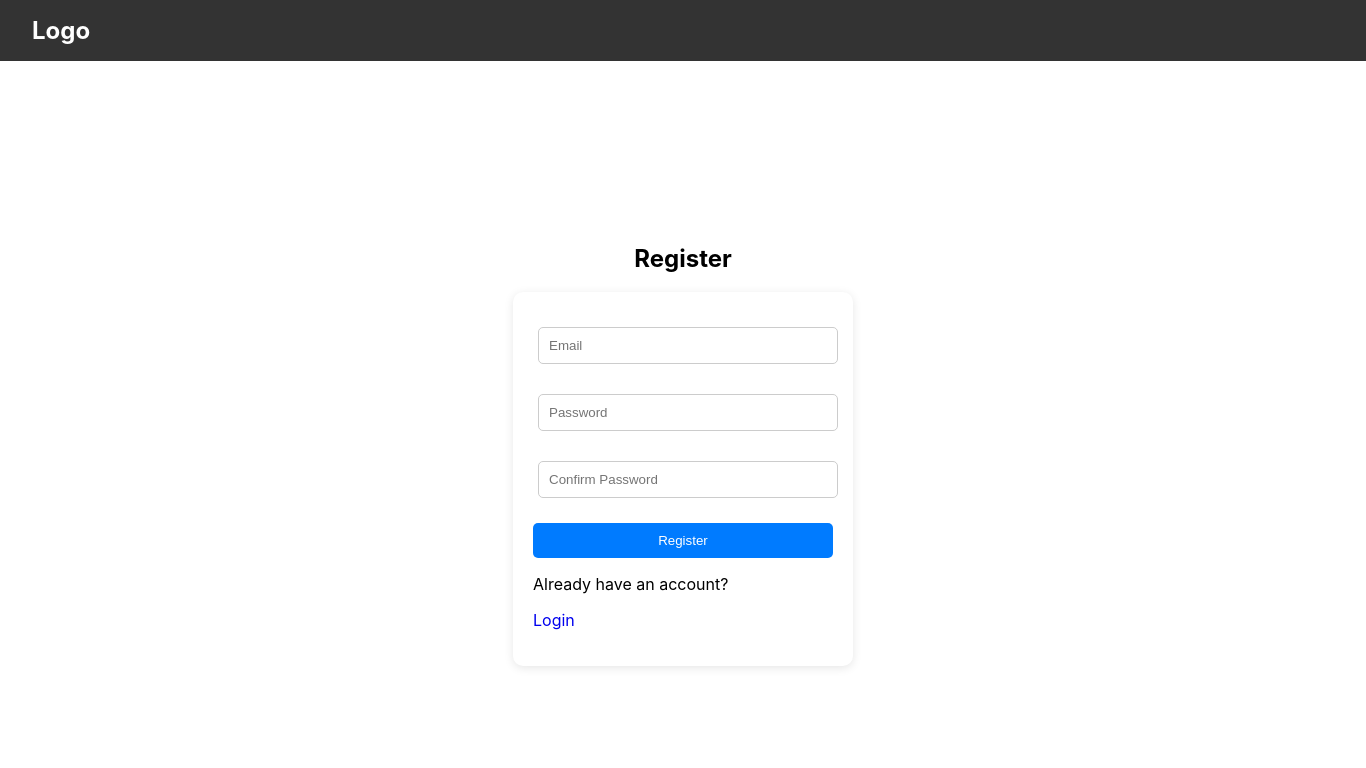
Test: Register › shows error message for password length in register process
The image size is (1366, 768).
Type "123" into the password field with placeholder "Password" at (688, 413), box x1=538 y1=394 x2=838 y2=431
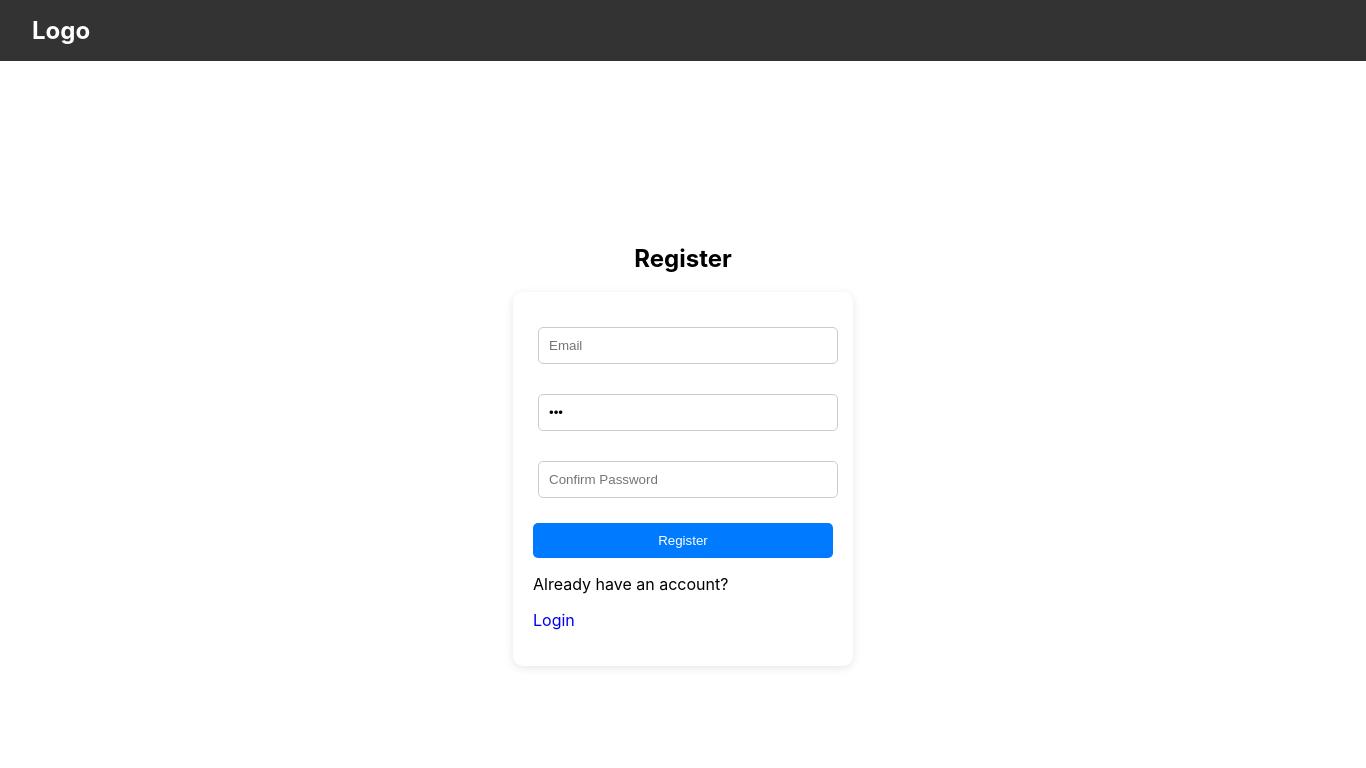
Click the button "Register" at (683, 541), box x1=533 y1=523 x2=833 y2=558
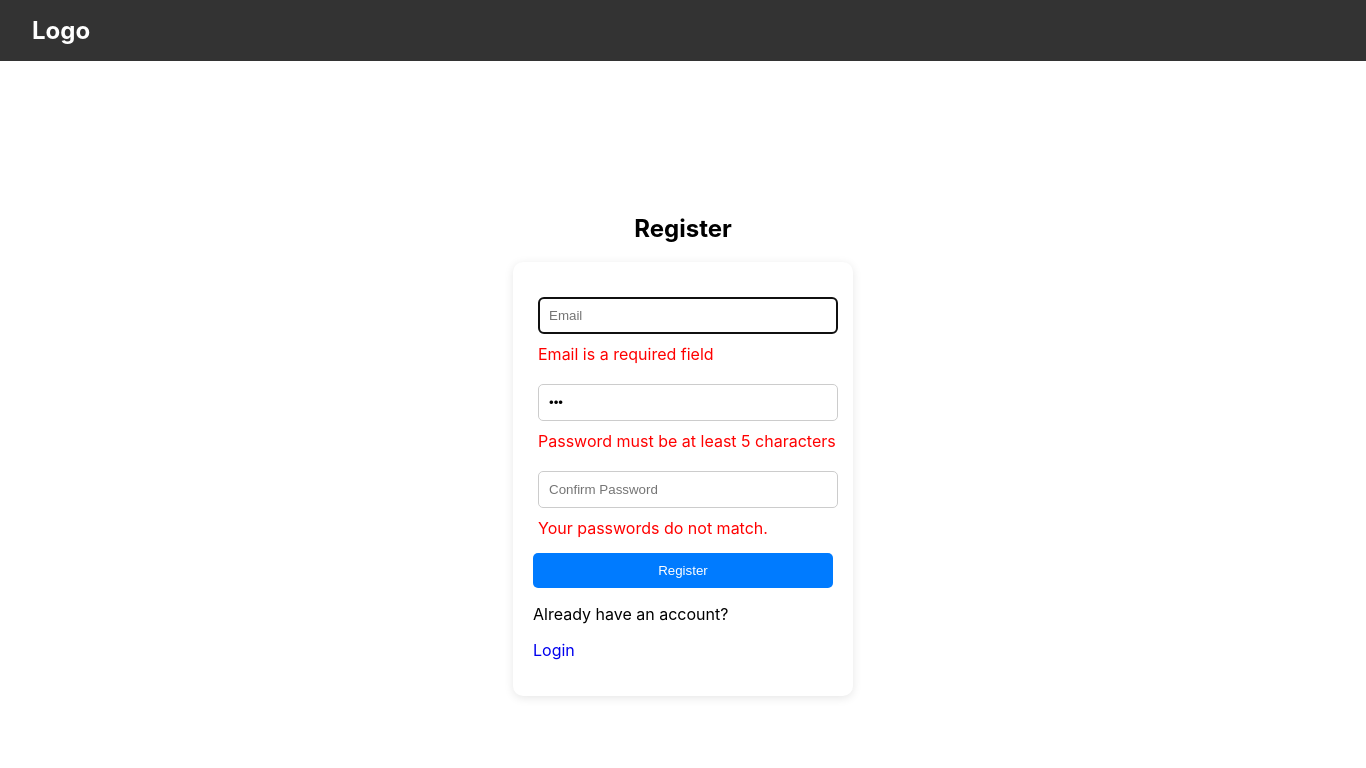
Check: the text "Password must be at least 5 characters" is shown, box x1=538 y1=431 x2=838 y2=451
